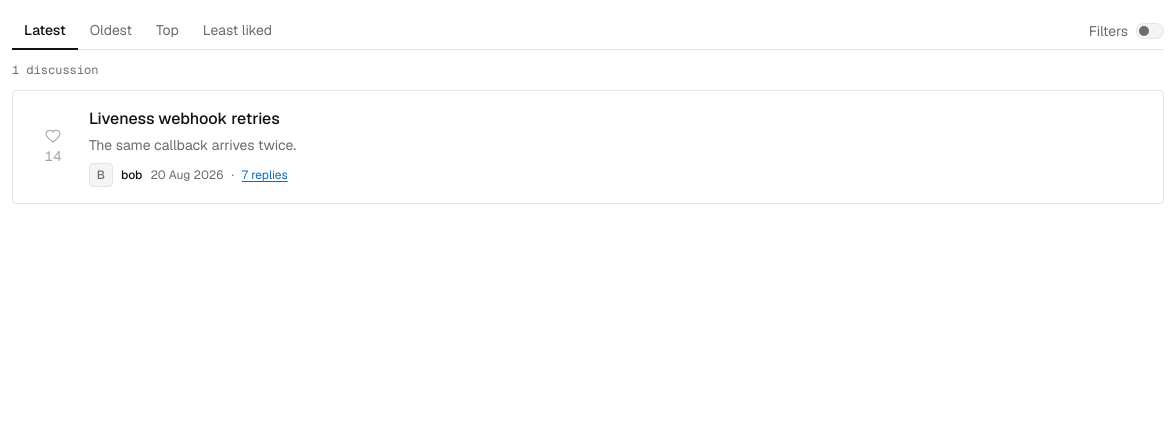
Test: replies in the list › expands the replies when the count is pressed
The image size is (1176, 421).
Step 1. Click the button "7 replies" → click(265, 175), box [242,167,288,183]
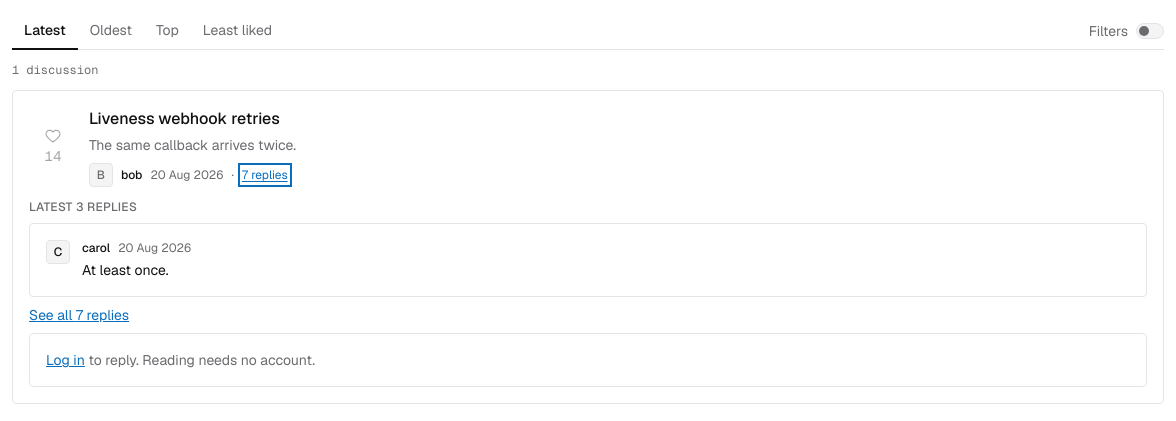
Expected: the text "At least once." is shown, [82,261,169,279]
